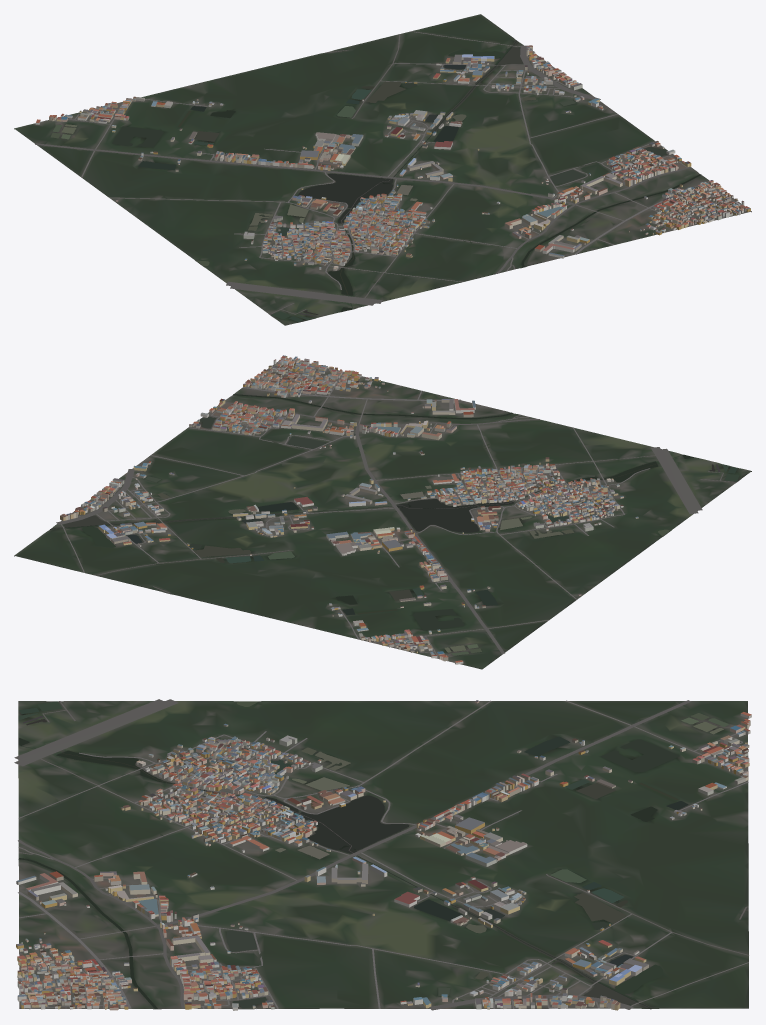
3 renders of one model, top to bottom at view 1: azimuth 30°, elevation 25°; view 2: azimuth 150°, elevation 25°; view 3: azimuth 270°, elevation 25°, orthographic. The views are drawn at different scales.
Visible parts, largest first — view 1: ground, buildings, water, roads; view 2: ground, buildings, water, roads; view 3: ground, buildings, water, roads.
Boxes of the visible parts, bbox=[...] form: ground: bbox=[14, 14, 751, 325]; buildings: bbox=[35, 45, 750, 270]; water: bbox=[50, 40, 701, 321]; roads: bbox=[35, 31, 735, 314]; ground: bbox=[14, 359, 751, 669]; buildings: bbox=[60, 355, 638, 664]; water: bbox=[50, 394, 739, 655]; roads: bbox=[56, 360, 736, 661]; ground: bbox=[18, 701, 748, 1009]; buildings: bbox=[16, 700, 751, 1010]; water: bbox=[18, 701, 748, 1008]; roads: bbox=[14, 699, 748, 1010].
Size of the model in its own units: 1416 by 23.53 by 1418.
